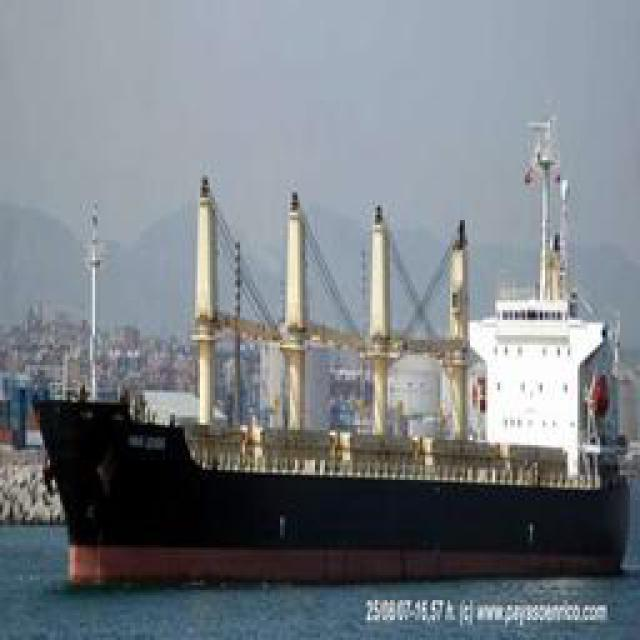Ship: (19, 140, 634, 565)
